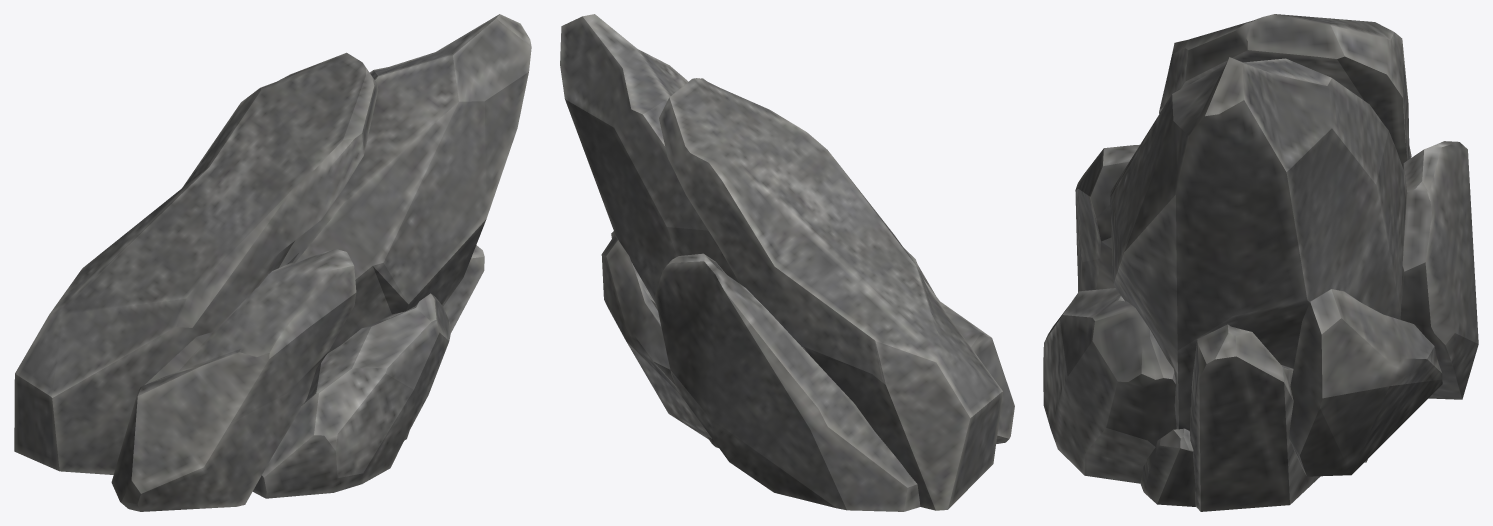
Rendered from RockGroup09_Dream.glb.
3 renders of one model, left to right at view 1: azimuth 30°, elevation 25°; view 2: azimuth 150°, elevation 25°; view 3: azimuth 270°, elevation 25°, orthographic. The views are drawn at different scales.
Visible parts, largest first — view 1: rockgroup09_dream; view 2: rockgroup09_dream; view 3: rockgroup09_dream.
Boxes of the visible parts, <box> form: rockgroup09_dream: <box>14,14,531,511</box>; rockgroup09_dream: <box>560,14,1014,511</box>; rockgroup09_dream: <box>1043,14,1478,511</box>.
Bounding box in the file's own units: 0.7108 × 0.5572 × 0.4077.
Materials: 1 (1 with a texture image).
